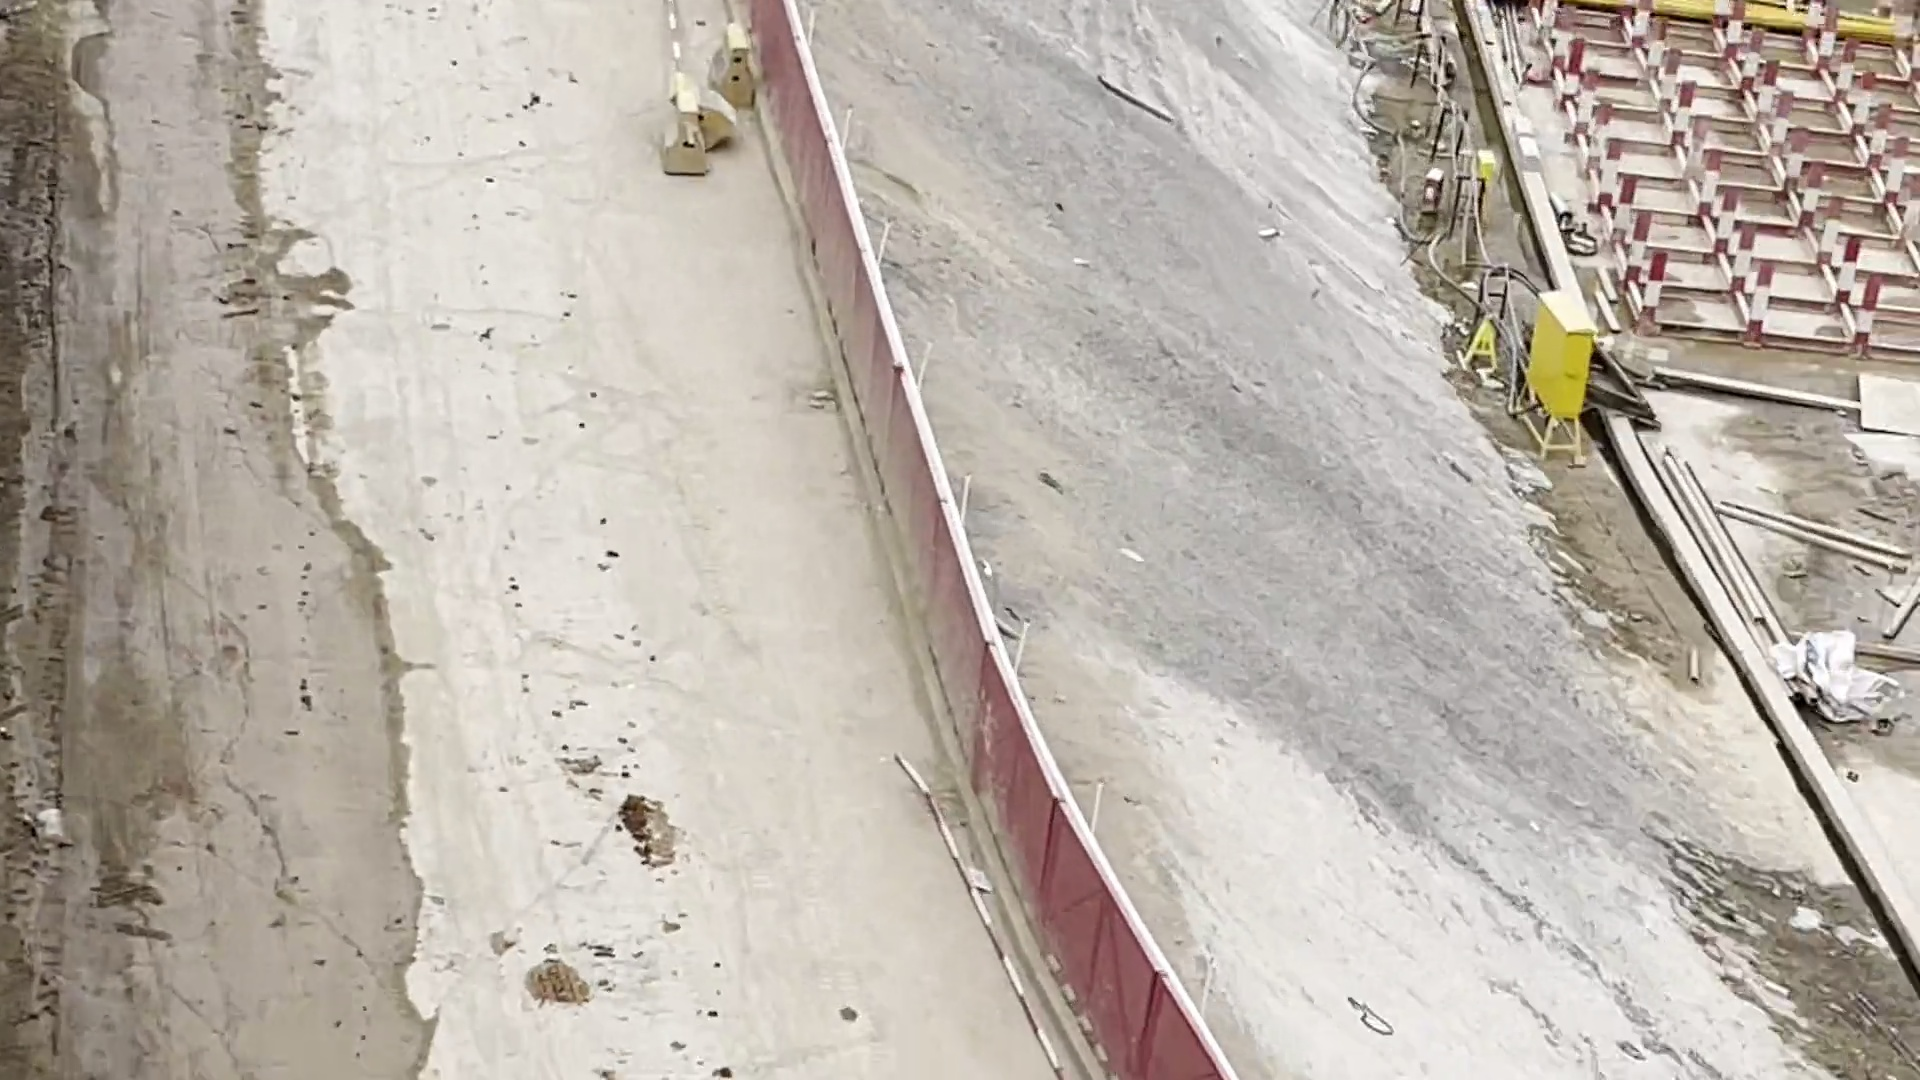ebox: (1522, 270, 1607, 462), (1452, 146, 1505, 214)
fence: (848, 365, 1267, 1080), (702, 1, 938, 386)
